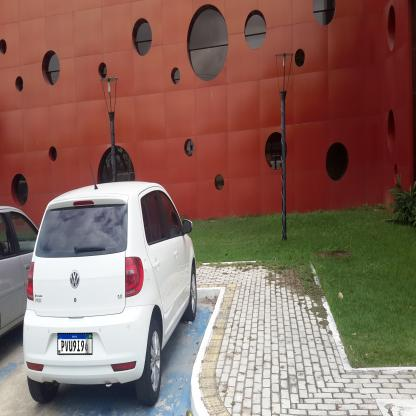PlacaM: (58, 333, 92, 355)
